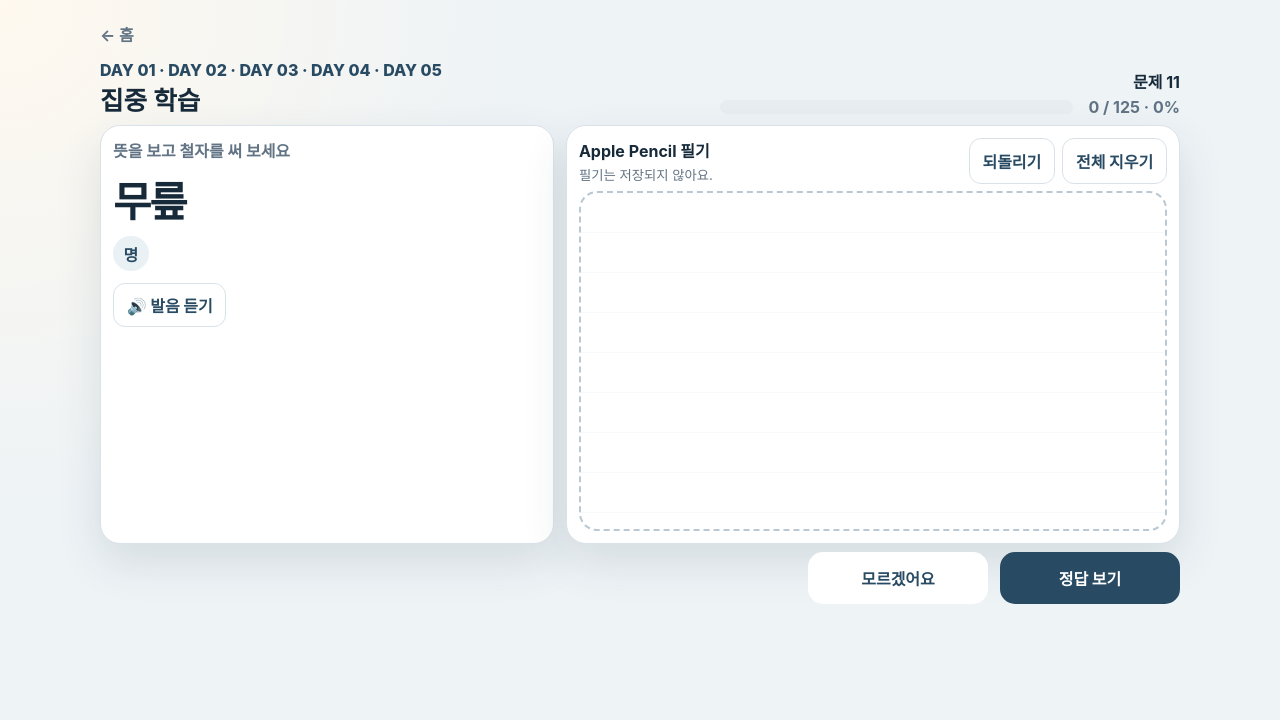
answer reveal shows the term and rating buttons
The width and height of the screenshot is (1280, 720).
Click the button "정답 보기" at (1090, 578), box left=1000, top=552, right=1180, bottom=604
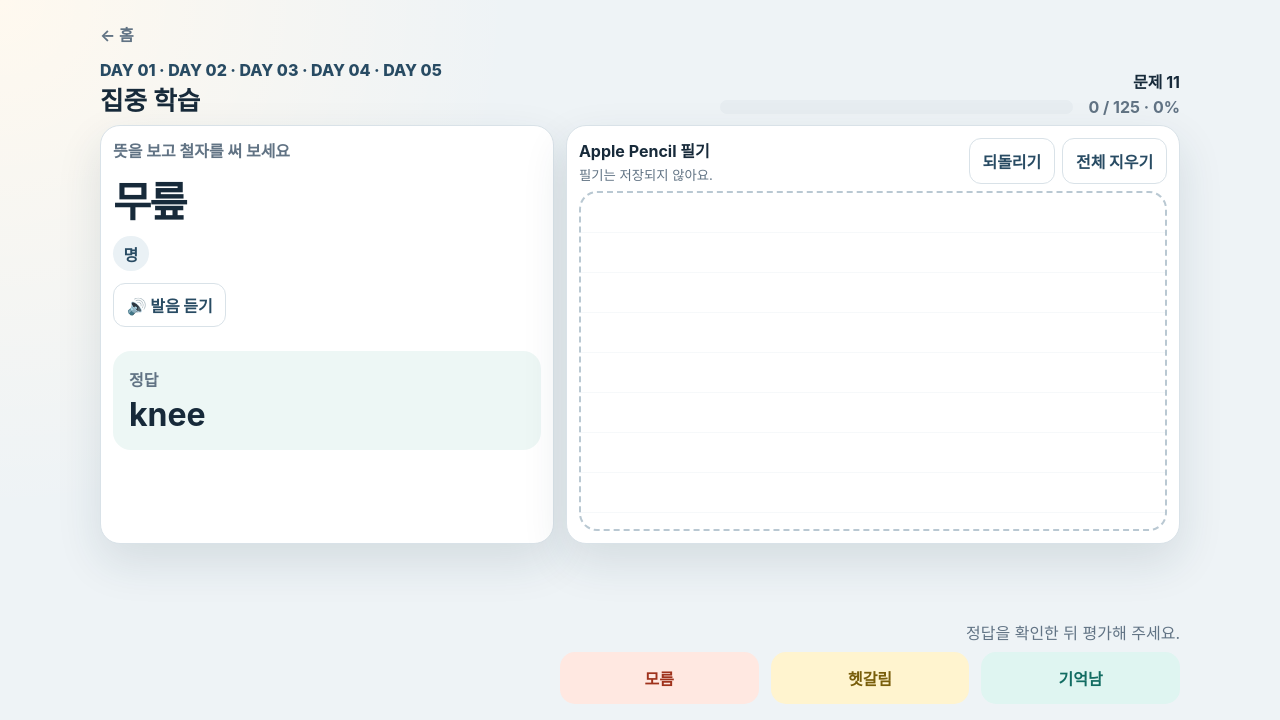
Check: the text "knee" is shown, box left=129, top=395, right=206, bottom=434
Check: the button "모름" is shown, box left=560, top=652, right=759, bottom=704
Check: the button "헷갈림" is shown, box left=771, top=652, right=969, bottom=704
